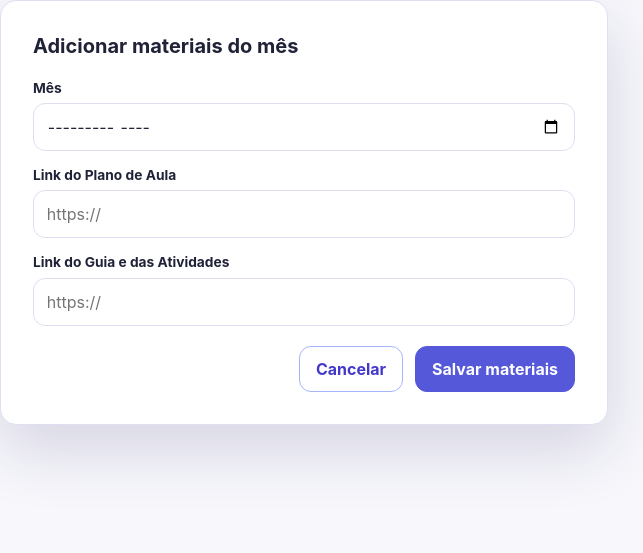
Test: gravação pelo formulário mensal › mantém os campos durante uma recusa conhecida
The width and height of the screenshot is (643, 553).
In the field labelled "Mês": (304, 127) [33,103,575,151], type "2026-09"
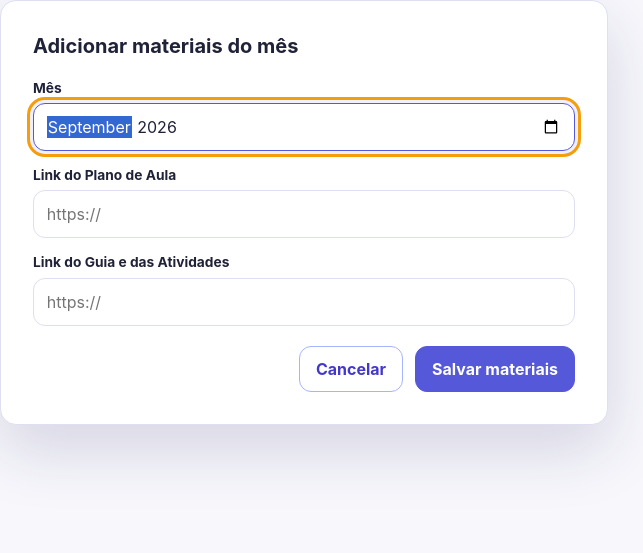
In the field labelled "Link do Plano de Aula": (304, 214) [33,190,575,238], type "https://example.com/pa-setembro"
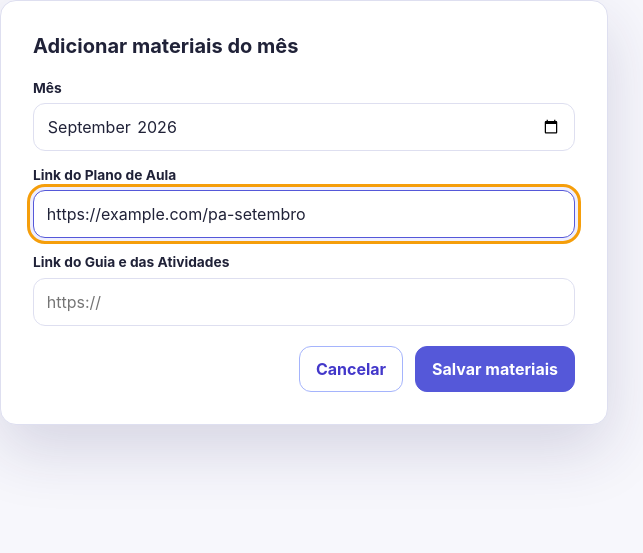
In the field labelled "Link do Guia e das Atividades": (304, 302) [33,278,575,326], type "https://example.com/gd-ad-setembro"
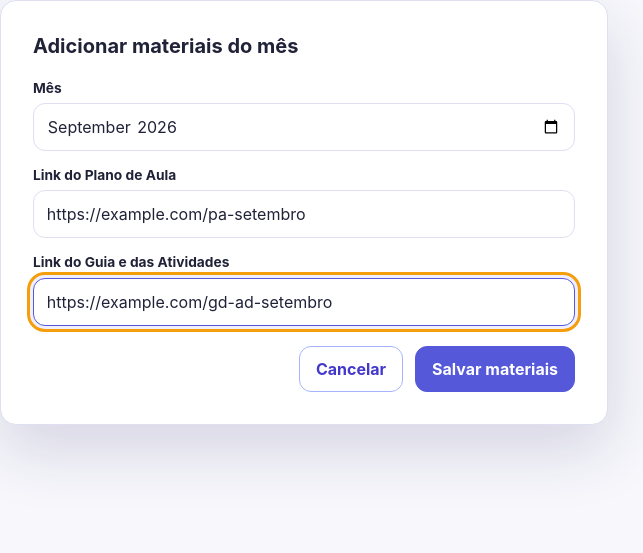
Click the button "Salvar materiais": (495, 369) [415,346,575,392]
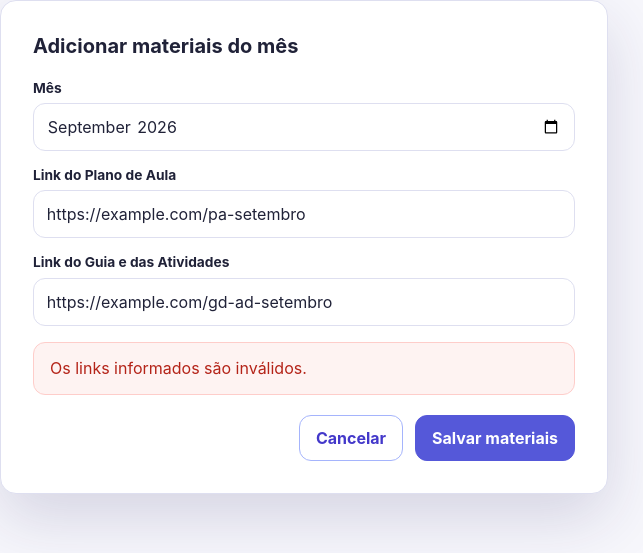
Now the message reads "Os links informados são inválidos.", box [50,358,307,378]
